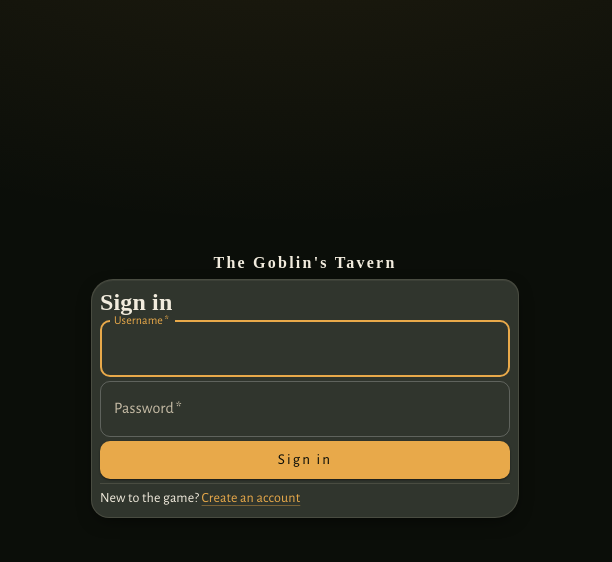
it: SignInRoute (UI-1 … UI-12) › UI-10: a 422 shows the unexpected-error copy and preserves both values
Type "thorin" into the field labelled "Username *" at point(305, 349), box [100,321,510,377]
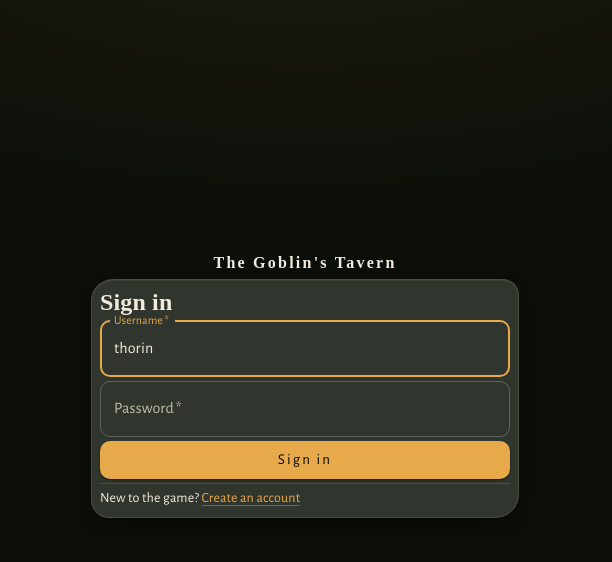
Type "hunter-of-orcs" into the password field labelled "Password *" at point(305, 409), box [100,381,510,437]
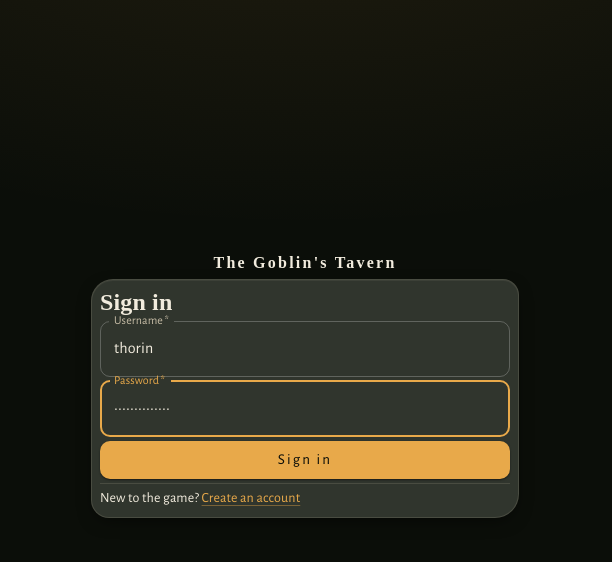
Click the button "Sign in" at point(305, 460), box [100,441,510,479]
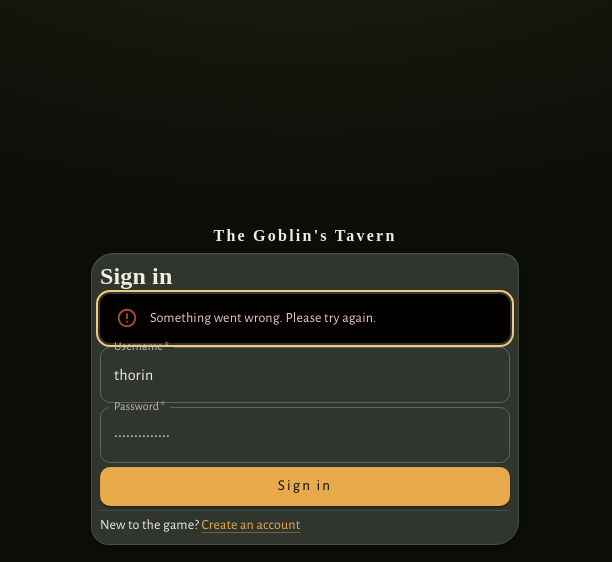
Expected: the message reads "Something went wrong. Please try again.", [150,311,376,325]
